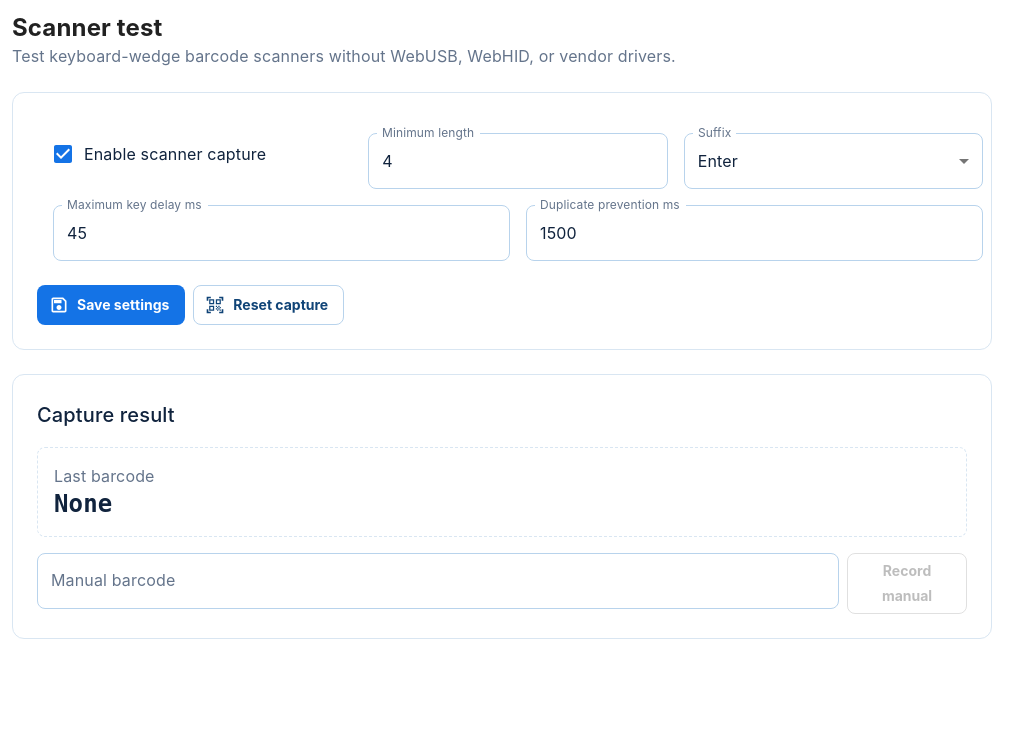
Test: ScannerTestPage › saves configurable minimum length and suffix
Replace the text in the number field labelled "Minimum length" with "6" at (518, 161), box [368, 133, 668, 189]
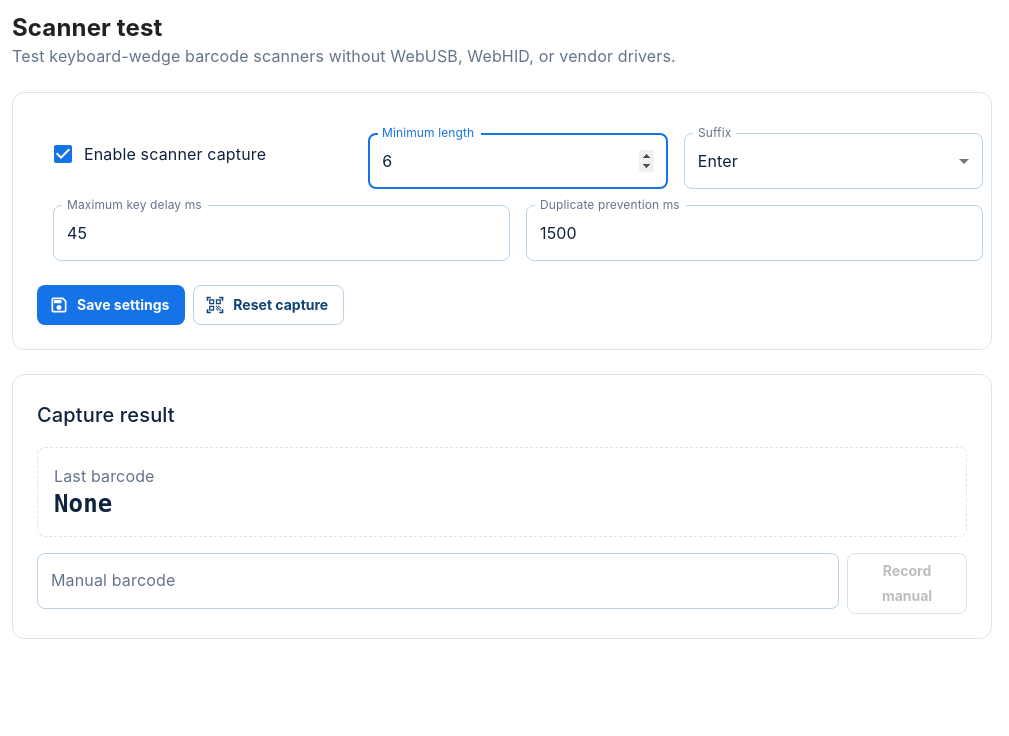
Click the dropdown named "Suffix" at (718, 160), box [698, 150, 738, 170]
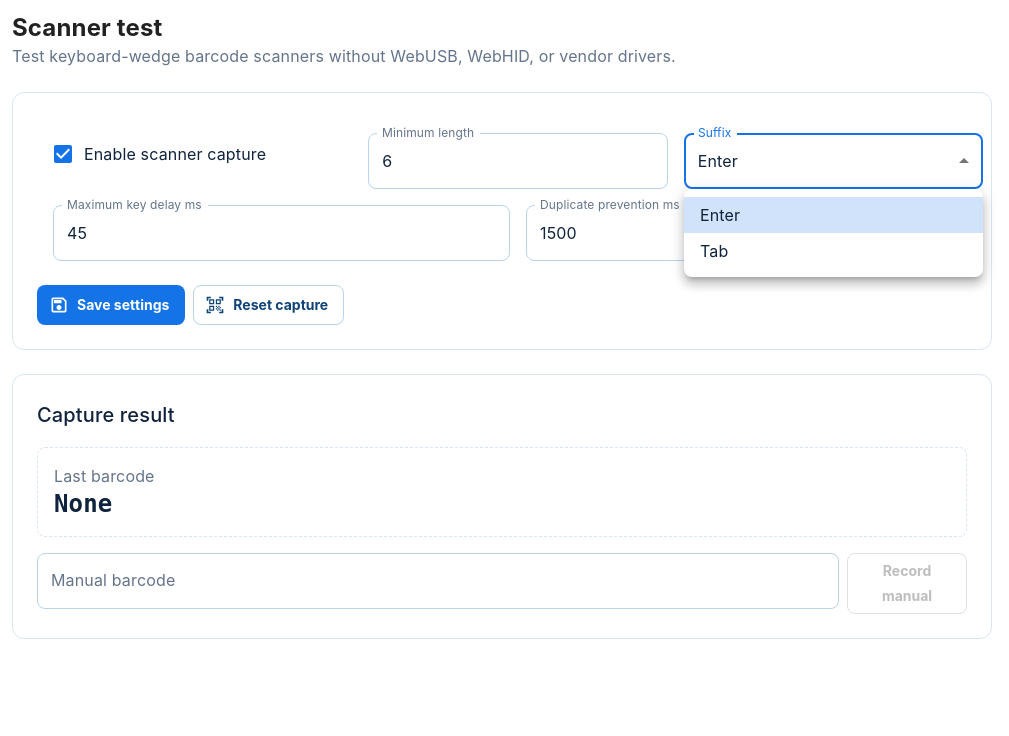
Click the option "Tab" at (714, 251), box [700, 241, 728, 261]
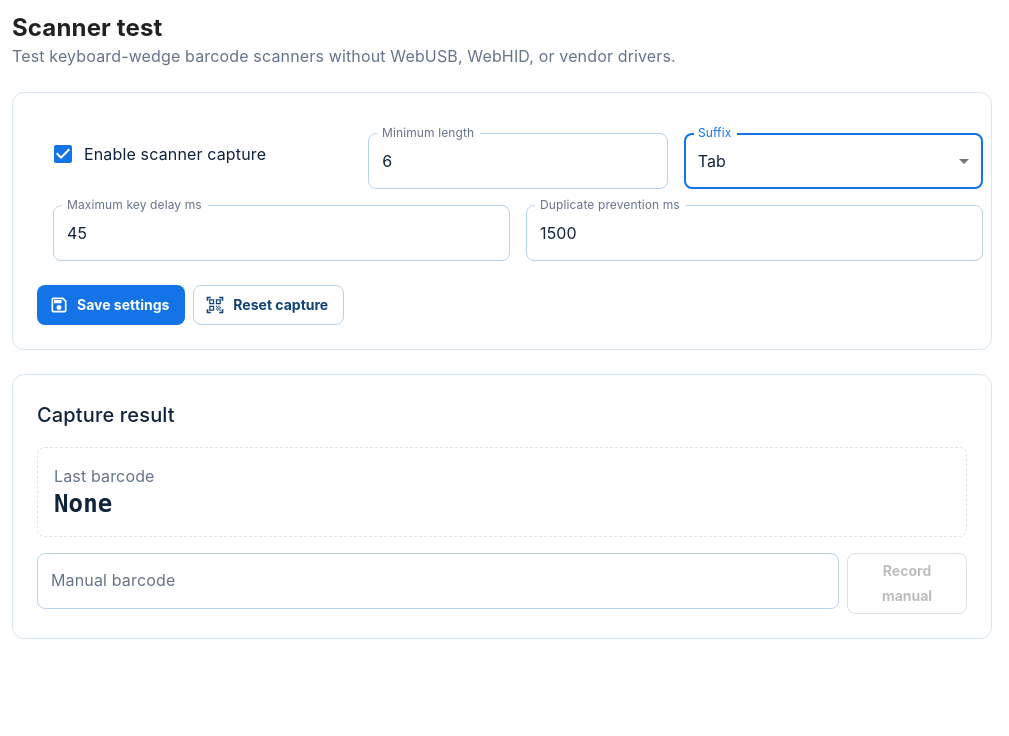
Click the button "Save settings" at (111, 305), box [37, 285, 185, 325]
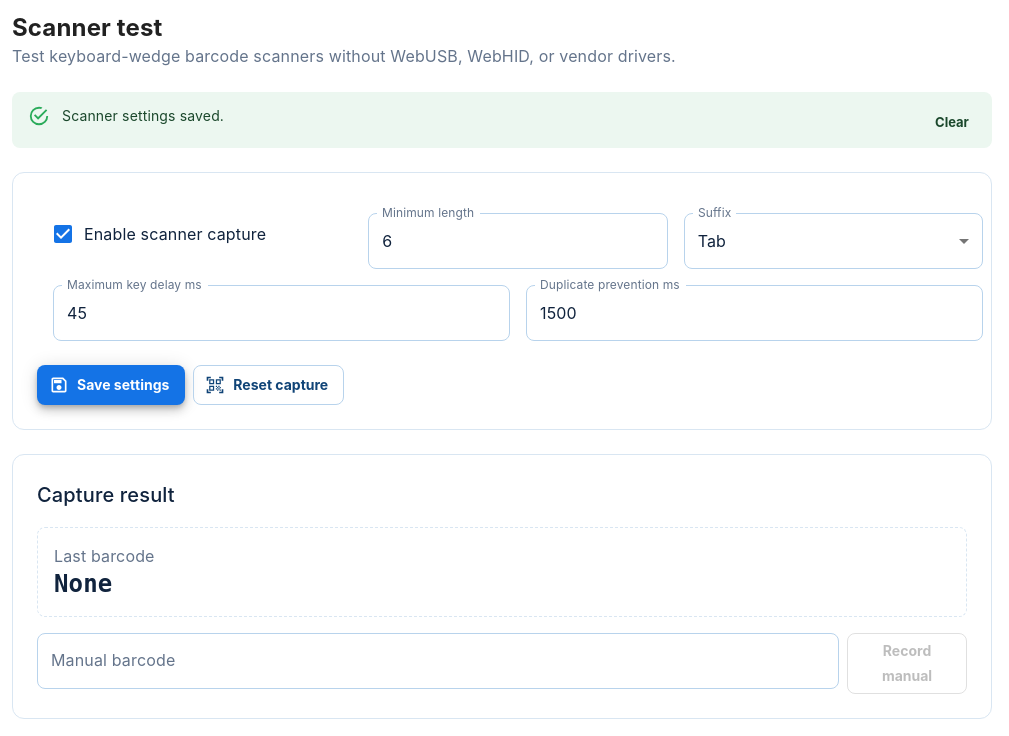
Expected: the text "Scanner settings saved." is shown, [62, 107, 224, 124]
